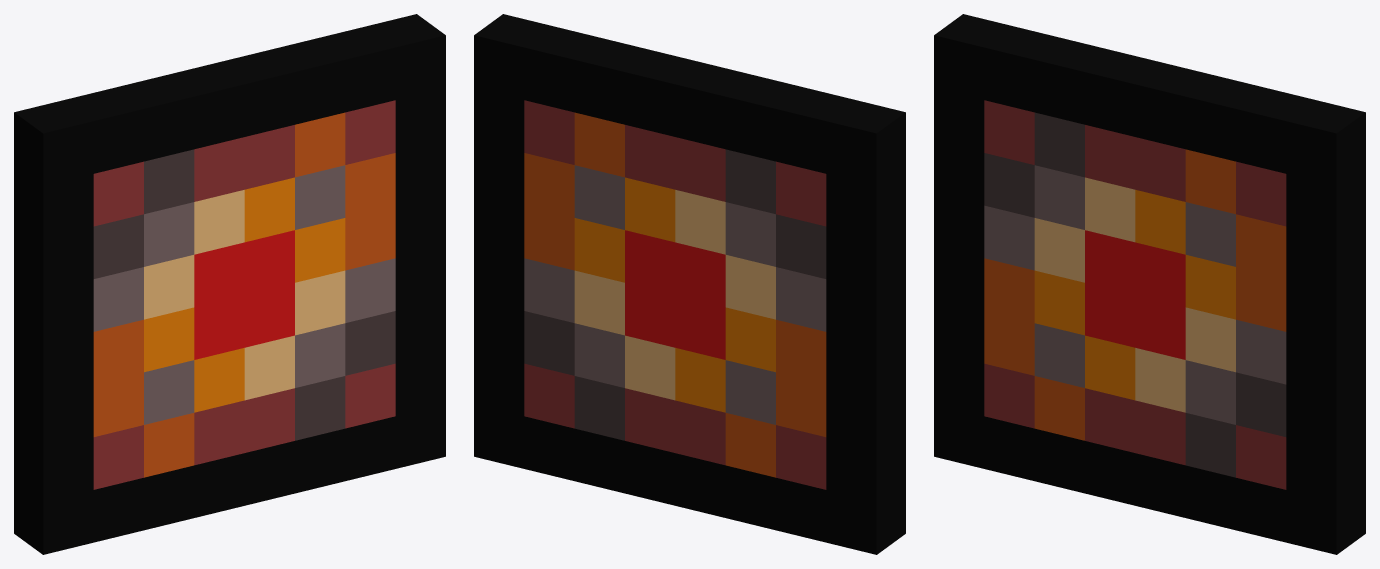
The model's file is Magma Golem Spawner Block.glb.
3 renders of one model, left to right at view 1: azimuth 30°, elevation 25°; view 2: azimuth 150°, elevation 25°; view 3: azimuth 330°, elevation 25°, orthographic.
Parts seen in each view (by area): view 1: generated(Clone); view 2: generated(Clone); view 3: generated(Clone).
Part boxes in pixels (x1,y1,x2,y2): generated(Clone): (14,14,445,554); generated(Clone): (474,14,905,554); generated(Clone): (934,14,1365,554).
Bounding box in the file's own units: 8 × 8 × 1.
1 material, 1 textured.
